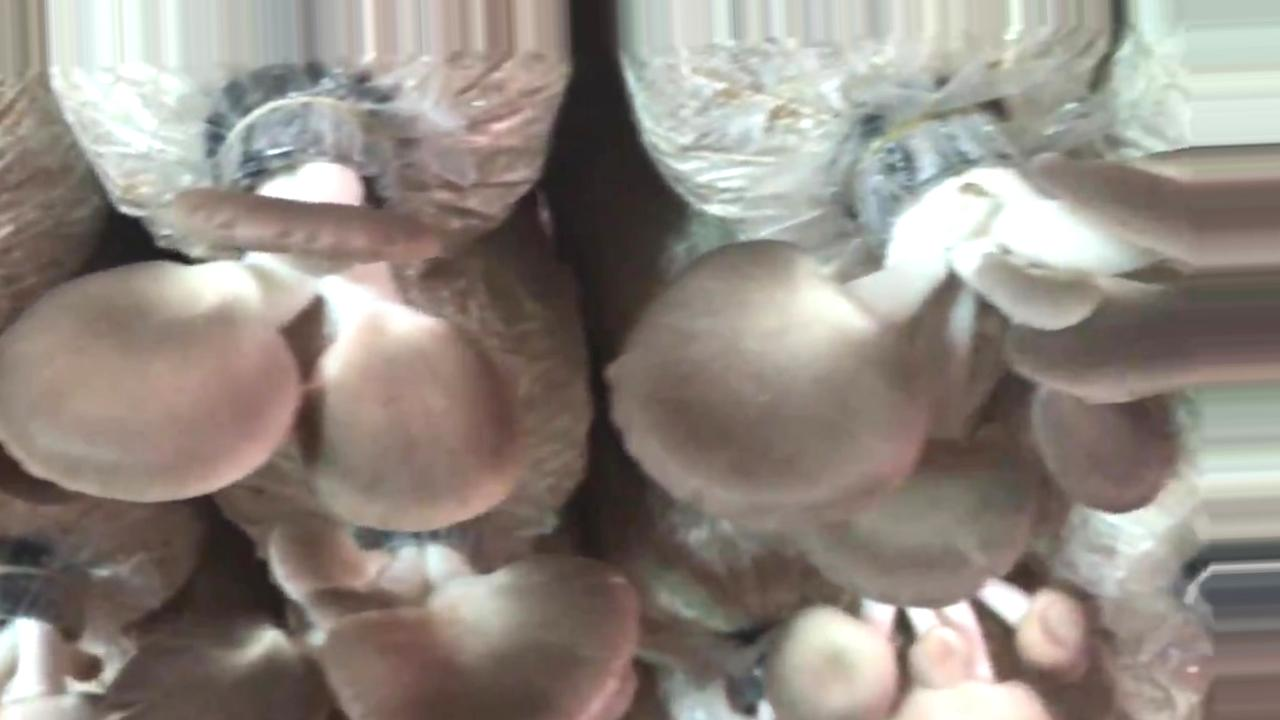nam: (609, 116, 1280, 605), (1, 88, 525, 534), (271, 517, 636, 720), (767, 578, 1089, 720), (1, 553, 105, 720)
